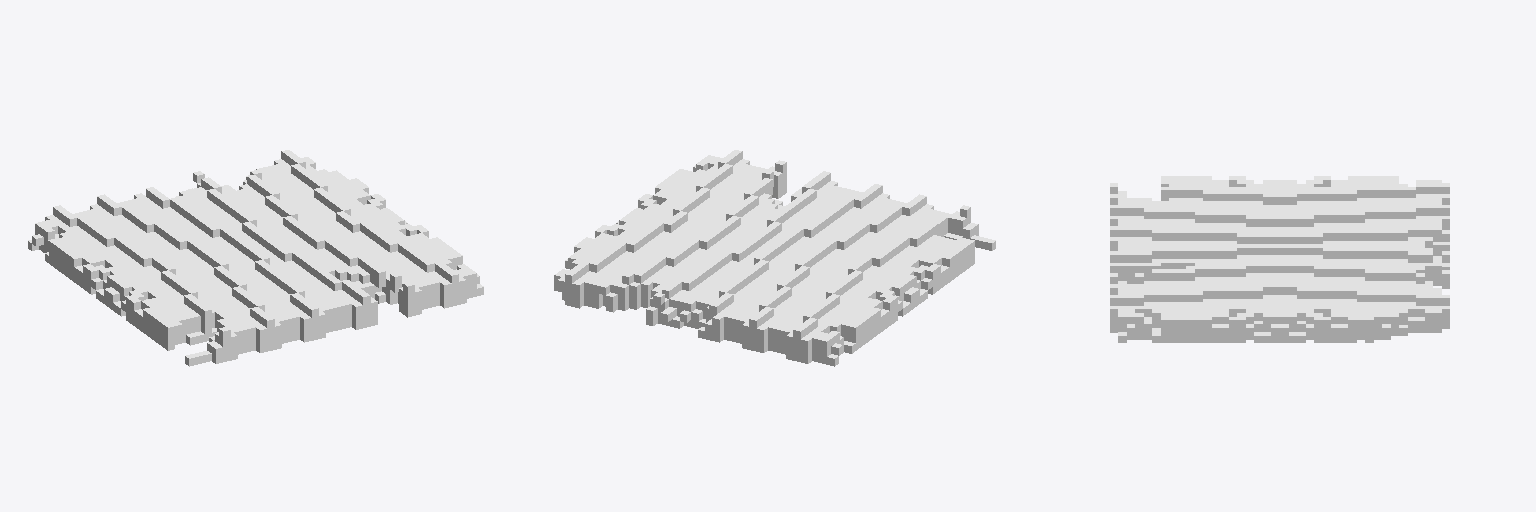
The model's file is Planche.obj.
3 renders of one model, left to right at view 1: azimuth 30°, elevation 25°; view 2: azimuth 150°, elevation 25°; view 3: azimuth 270°, elevation 25°, orthographic.
Parts seen in each view (by area): view 1: object 1; view 2: object 1; view 3: object 1.
Part boxes in pixels (left/top/right/bottom): object 1: left=28, top=150, right=483, bottom=366; object 1: left=554, top=150, right=995, bottom=366; object 1: left=1110, top=176, right=1449, bottom=342.
Bounding box in the file's own units: 4 × 0.4 × 4.